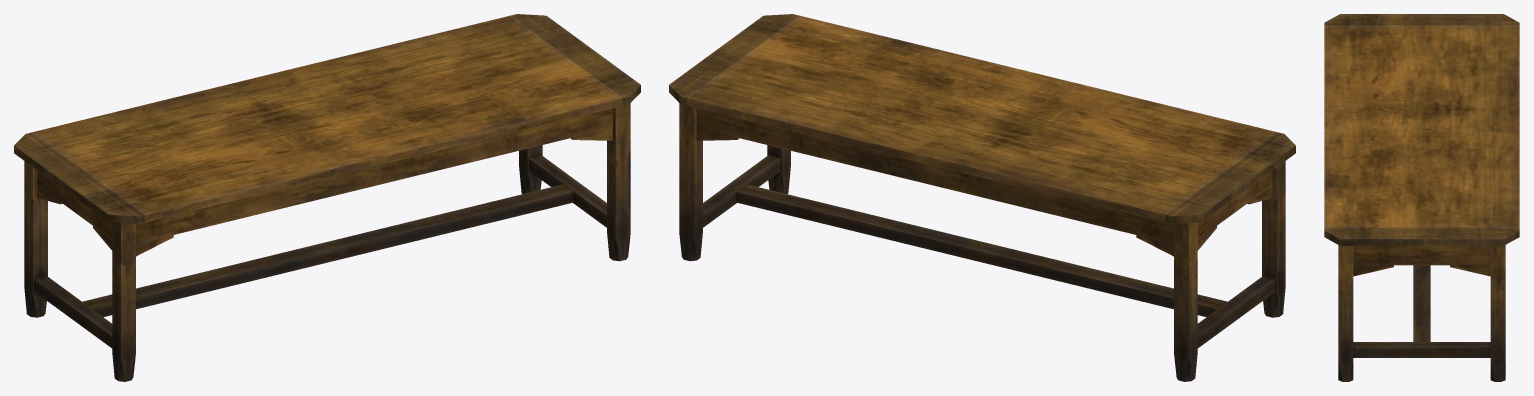
File: woodentable_01.glb
3 views of the same model, side by side, from view 1: azimuth 30°, elevation 25°; view 2: azimuth 150°, elevation 25°; view 3: azimuth 270°, elevation 25° (orthographic). The views are drawn at different scales.
Visible parts, largest first — view 1: WoodenTable_01; view 2: WoodenTable_01; view 3: WoodenTable_01.
Boxes of the visible parts, x1,y1,x2,y2 form: WoodenTable_01: [14, 14, 640, 381]; WoodenTable_01: [669, 14, 1295, 381]; WoodenTable_01: [1324, 14, 1519, 381].
Size of the model in its own units: 1.79 by 0.5488 by 0.6572.
Materials: 1 (1 with a texture image).
